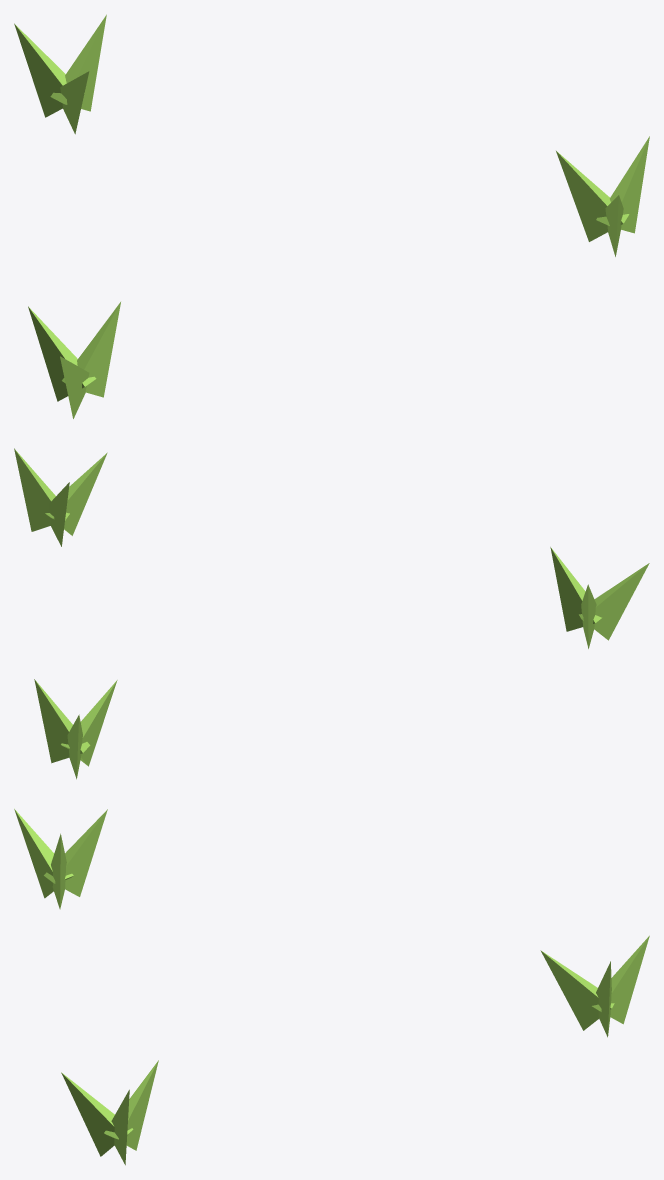
The model's file is bushberries-1.glb.
3 renders of one model, top to bottom at view 1: azimuth 30°, elevation 25°; view 2: azimuth 150°, elevation 25°; view 3: azimuth 270°, elevation 25°, orthographic. The views are drawn at different scales.
Parts seen in each view (by area): view 1: bushberries-1; view 2: bushberries-1; view 3: bushberries-1.
Boxes of the visible parts, x1,y1,x2,y2 form: bushberries-1: (14,14,649,418); bushberries-1: (14,448,649,779); bushberries-1: (14,808,649,1165).
Bounding box in the file's own units: 0.4605 × 0.0663 × 0.4202.
1 material, 1 textured.
